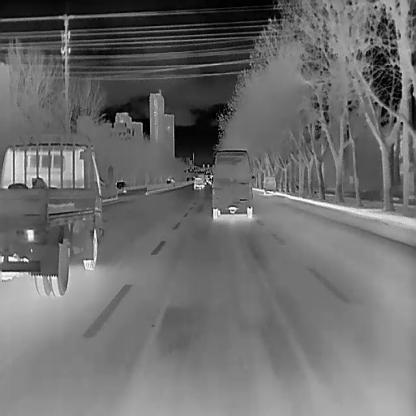car: (0, 135, 112, 295), (211, 149, 252, 218), (263, 174, 275, 192), (114, 181, 127, 195), (193, 177, 204, 189)
